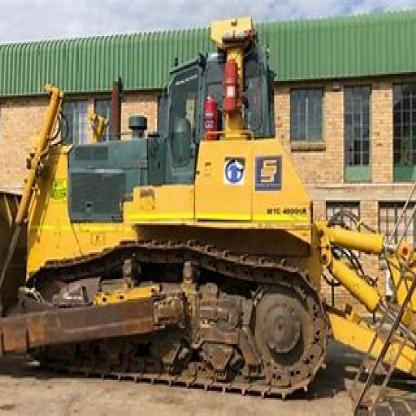bull_dozer/loader/grader: (13, 11, 415, 389)
